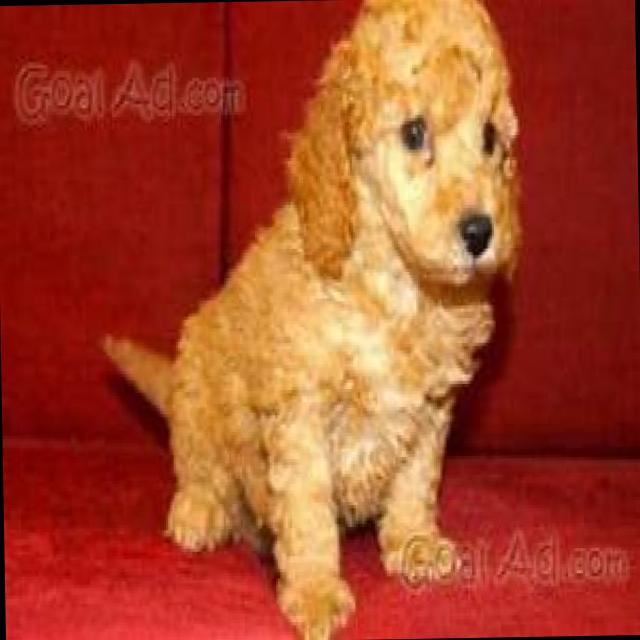animal: (94, 0, 530, 640)
